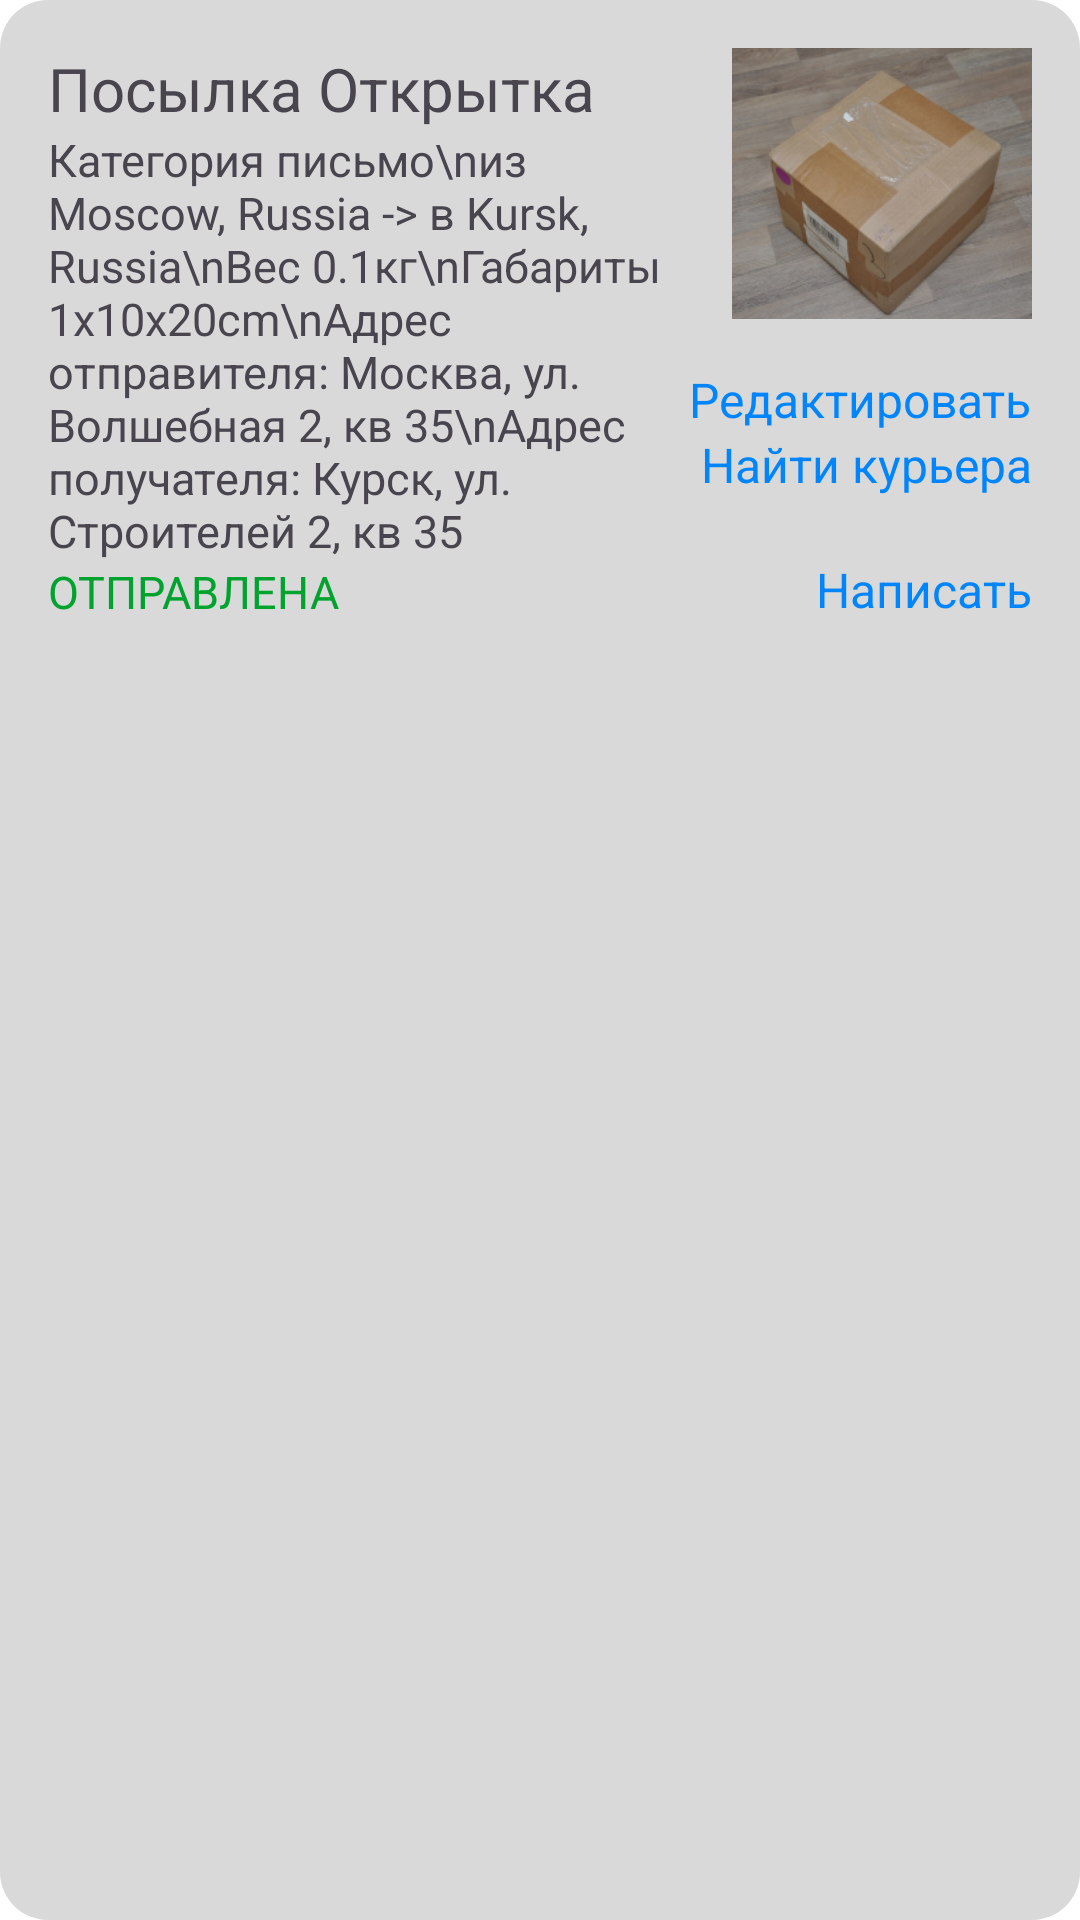

Icon bounding boxes for this 1080*1920 phone screenshot, format box=[x1, y1, x2, y2]:
box example: box=[732, 48, 1032, 319]
